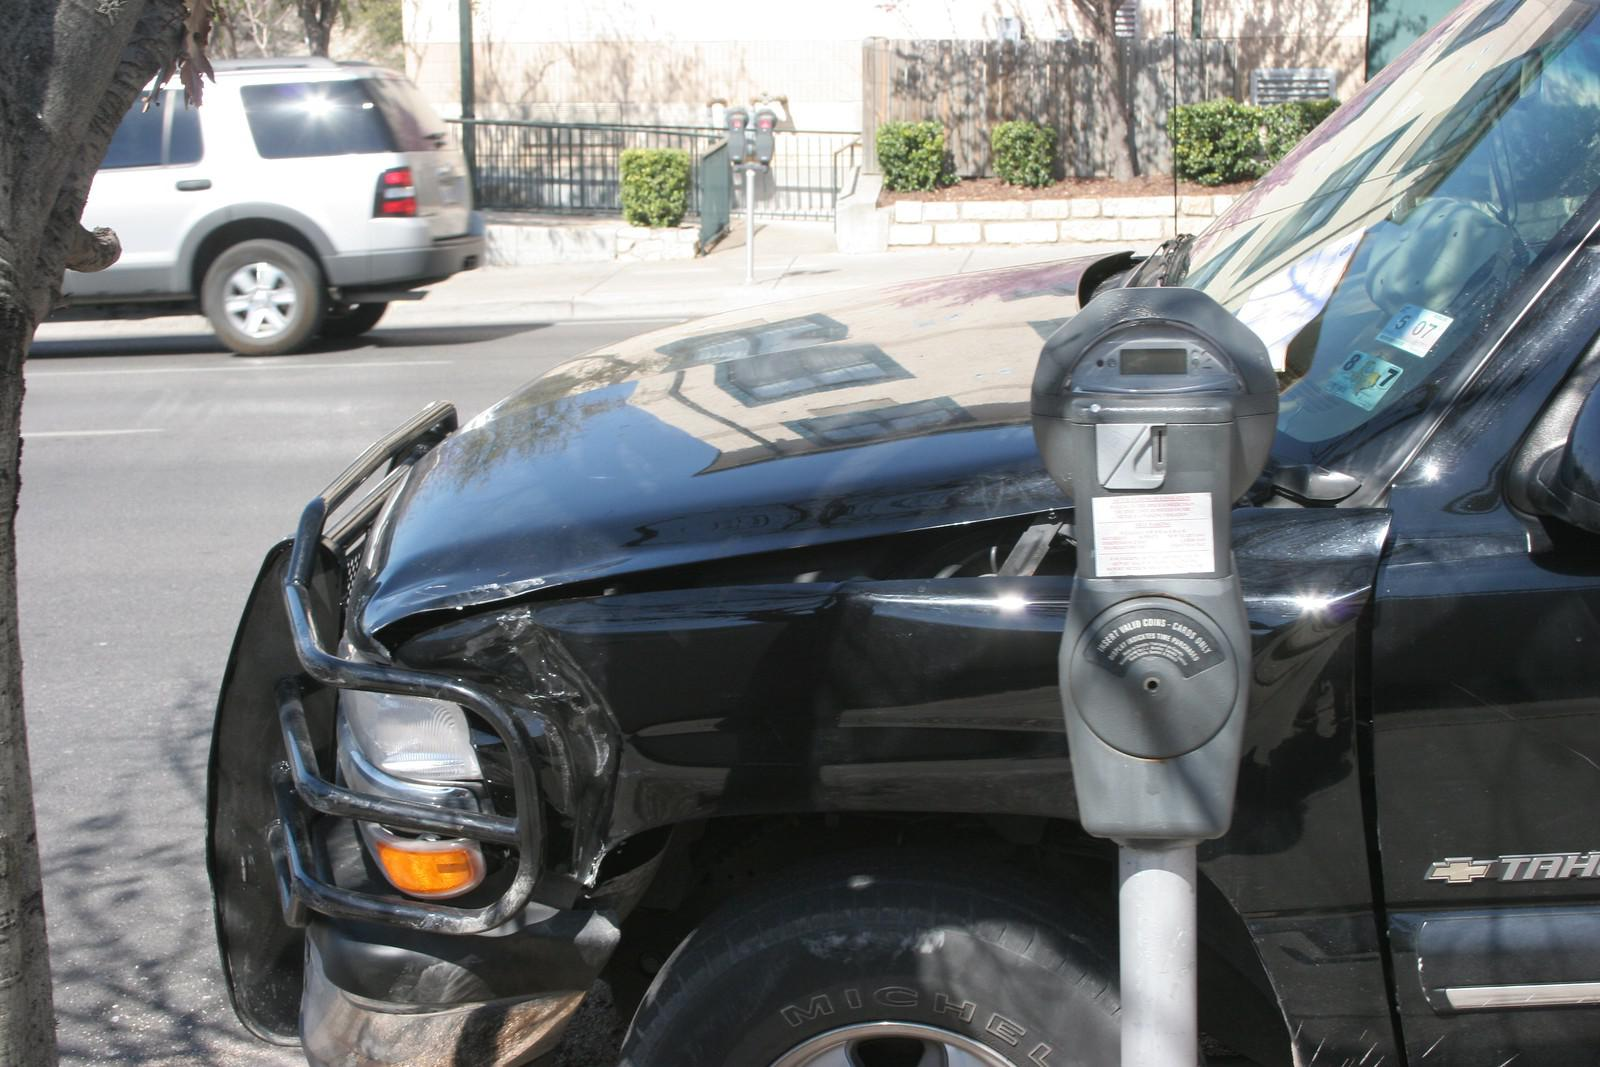bonnet-dent: (365, 301, 1215, 634)
fender-dent: (531, 561, 1382, 931)
